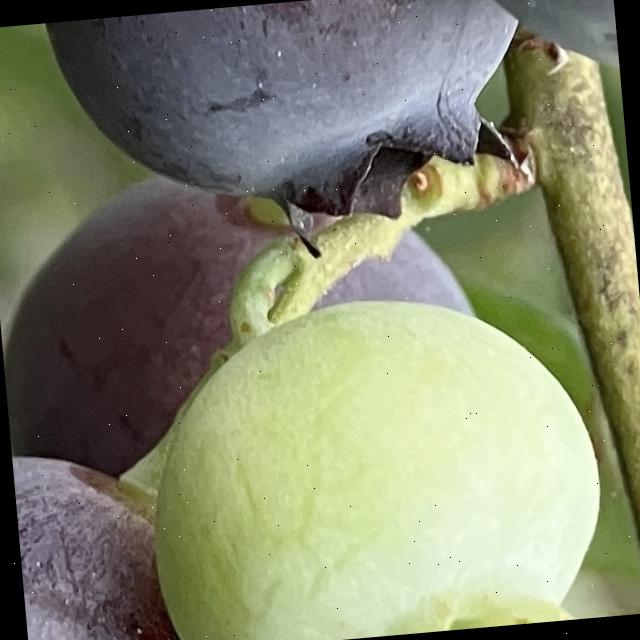Blueberries: (120, 272, 638, 640)
